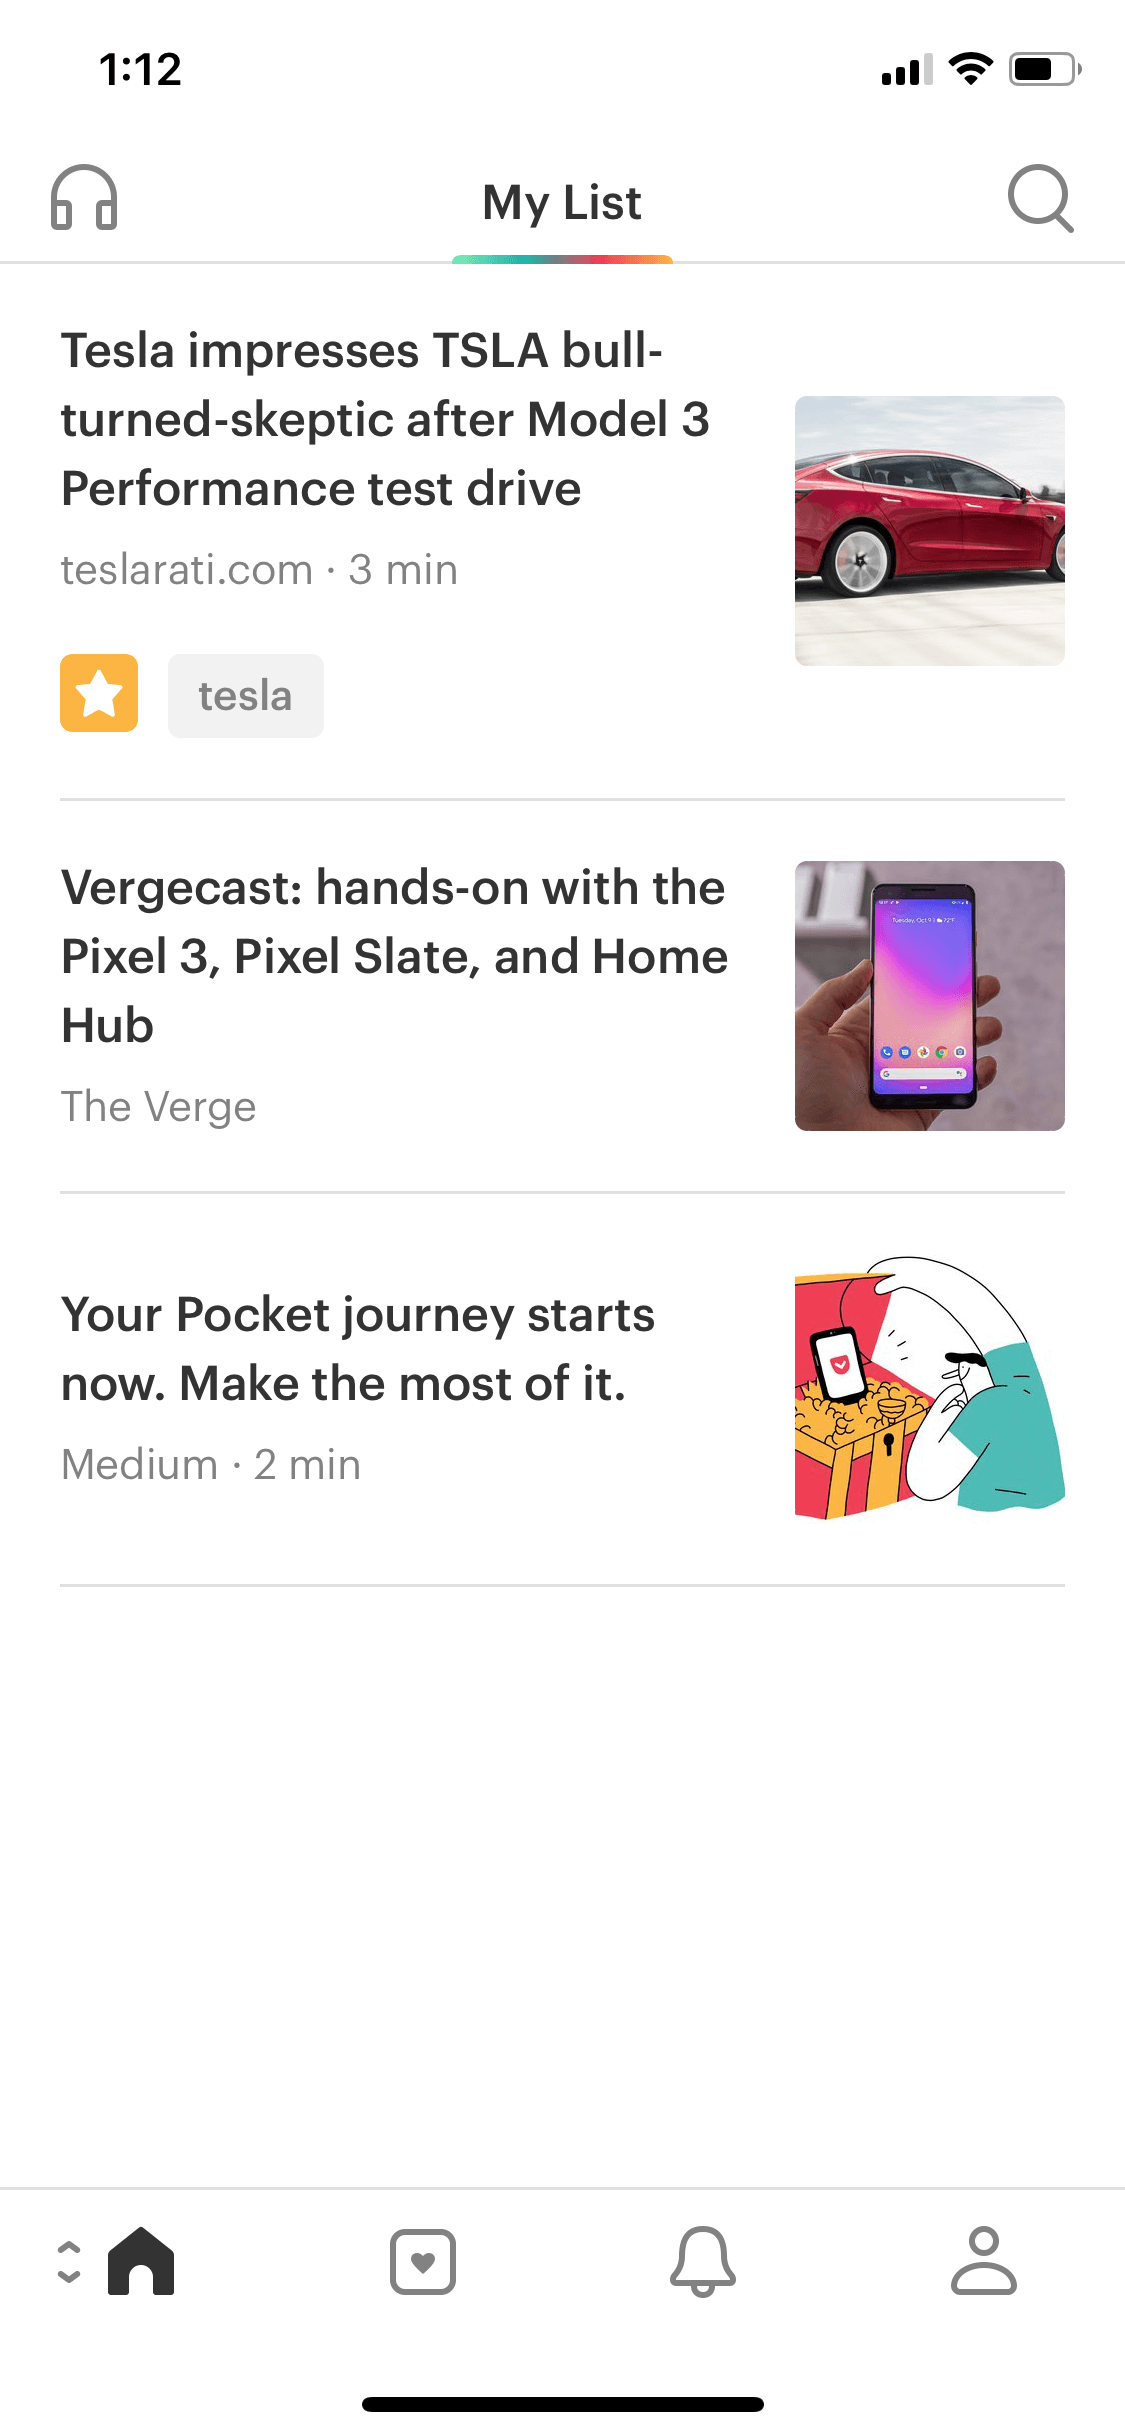Buttons: (5, 117, 158, 263), (967, 118, 1108, 259)
